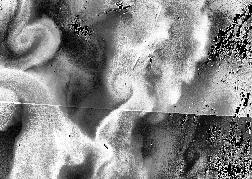CE: (12, 19, 58, 55), (110, 69, 140, 99)
